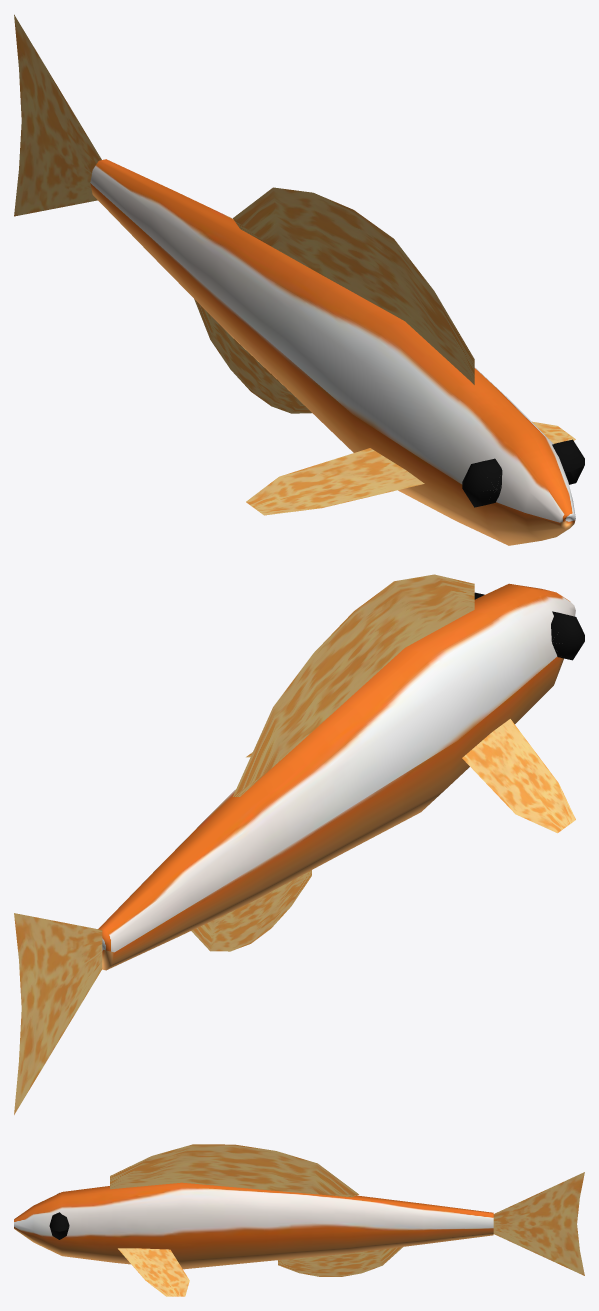
File: reef_clownfish.glb
The picture shows the model from 3 angles, top to bottom: view 1: azimuth 30°, elevation 25°; view 2: azimuth 150°, elevation 25°; view 3: azimuth 270°, elevation 25°; orthographic projection. The views are drawn at different scales.
Bounding box in the file's own units: 0.0426 × 0.0336 × 0.1309.
Materials: 1 (1 with a texture image).
